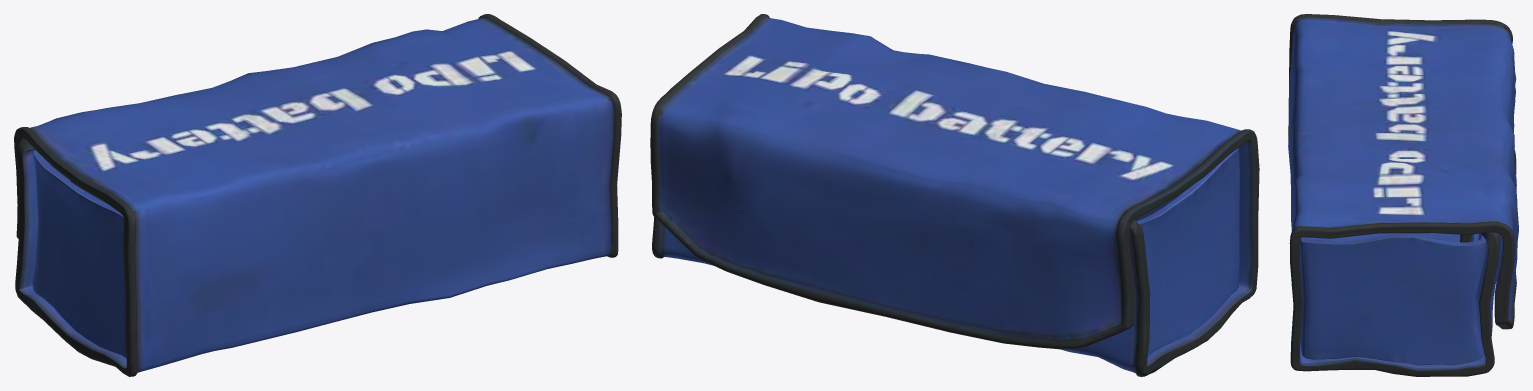
Rendered from lipo-bag.glb.
3 views of the same model, side by side, from view 1: azimuth 30°, elevation 25°; view 2: azimuth 150°, elevation 25°; view 3: azimuth 270°, elevation 25° (orthographic). The views are drawn at different scales.
Visible parts, largest first — view 1: battery safe bag001_Material #2578_0; view 2: battery safe bag001_Material #2578_0; view 3: battery safe bag001_Material #2578_0.
Part boxes in pixels (x1,y1,x2,y2): battery safe bag001_Material #2578_0: (14,14,621,376); battery safe bag001_Material #2578_0: (650,14,1259,376); battery safe bag001_Material #2578_0: (1288,14,1518,376).
Size of the model in its own units: 0.22 by 0.076 by 0.1001.
Materials: 1 (1 with a texture image).
